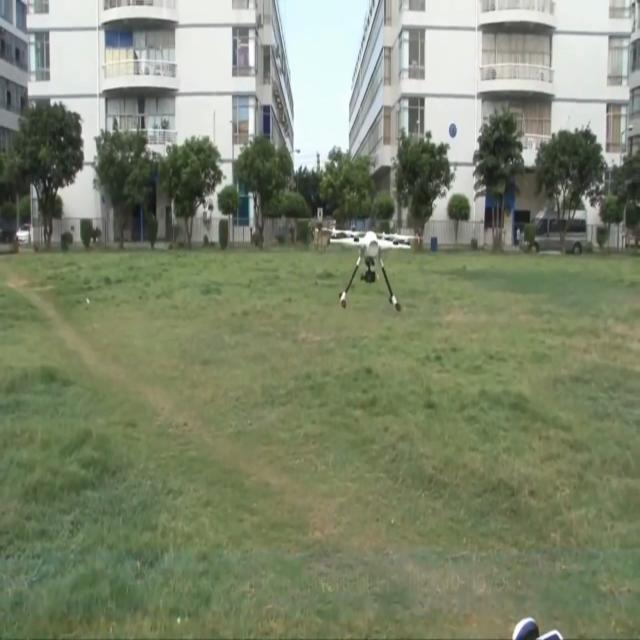drone: (326, 228, 414, 312)
